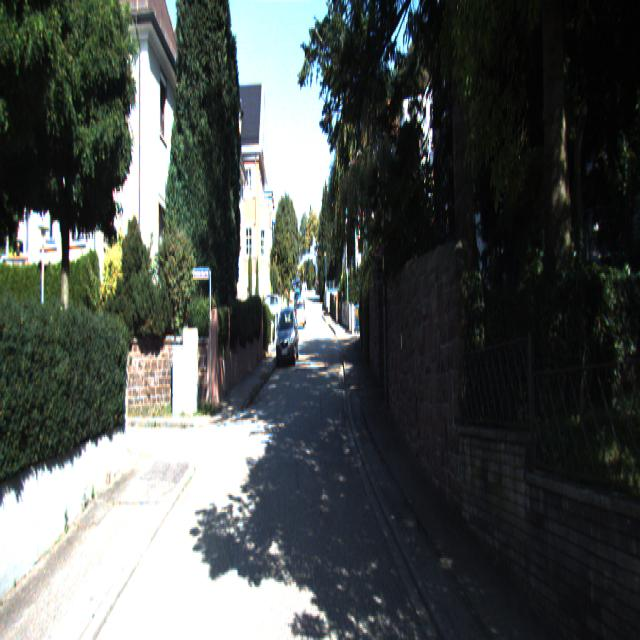Car: (274, 311, 301, 368)
